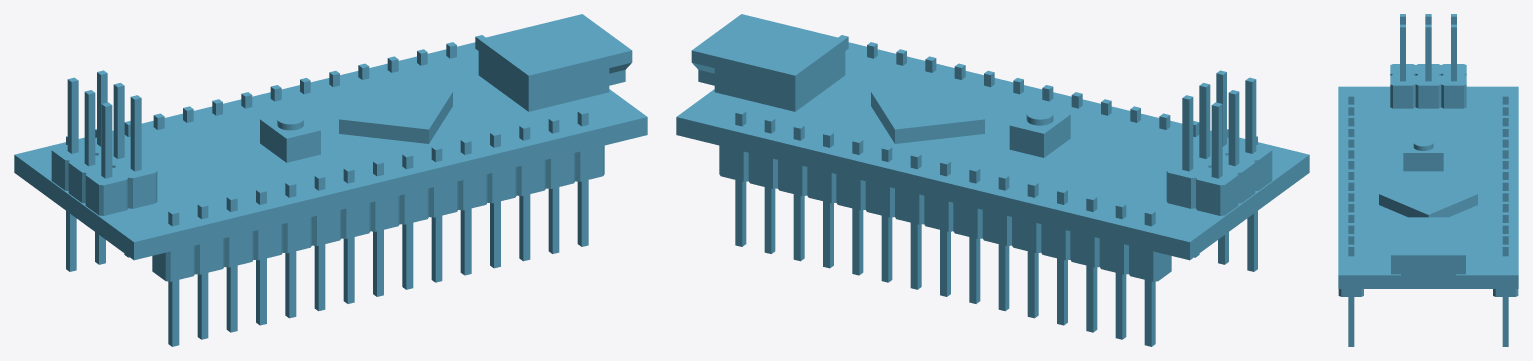
Rendered from arduino_nano.glb.
The picture shows the model from 3 angles, left to right: view 1: azimuth 30°, elevation 25°; view 2: azimuth 150°, elevation 25°; view 3: azimuth 270°, elevation 25°; orthographic projection. The views are drawn at different scales.
Parts seen in each view (by area): view 1: Fusion015; view 2: Fusion015; view 3: Fusion015.
Part boxes in pixels (x1,y1,x2,y2): Fusion015: (14,14,647,346); Fusion015: (676,14,1309,346); Fusion015: (1338,14,1518,346).
Size of the model in its own units: 0.0463 by 0.0185 by 0.018.
